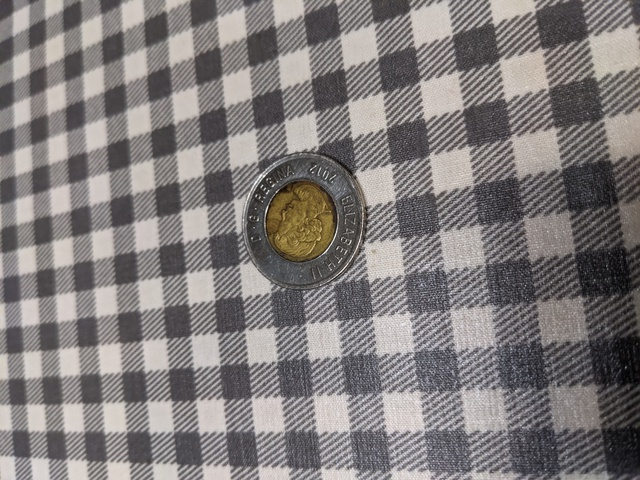twonie: (236, 147, 380, 293)
